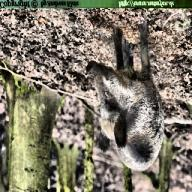boar: (85, 19, 165, 172)
